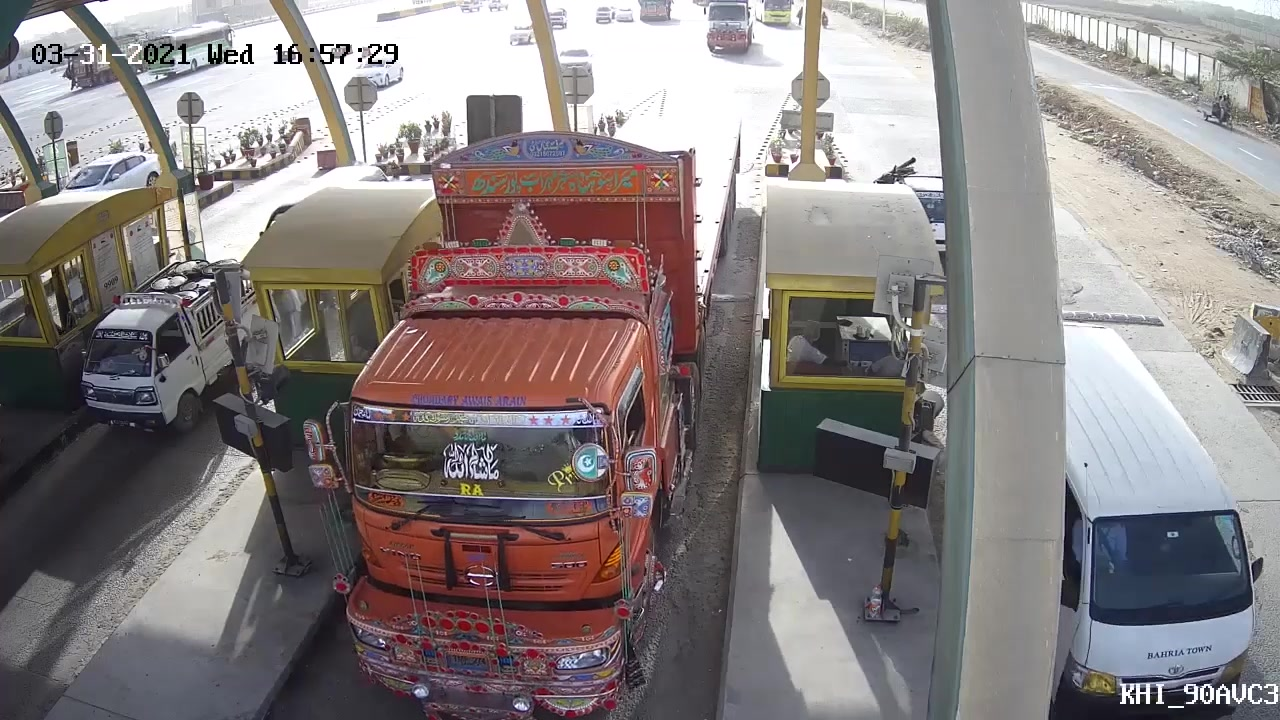F6: (335, 104, 749, 713)
